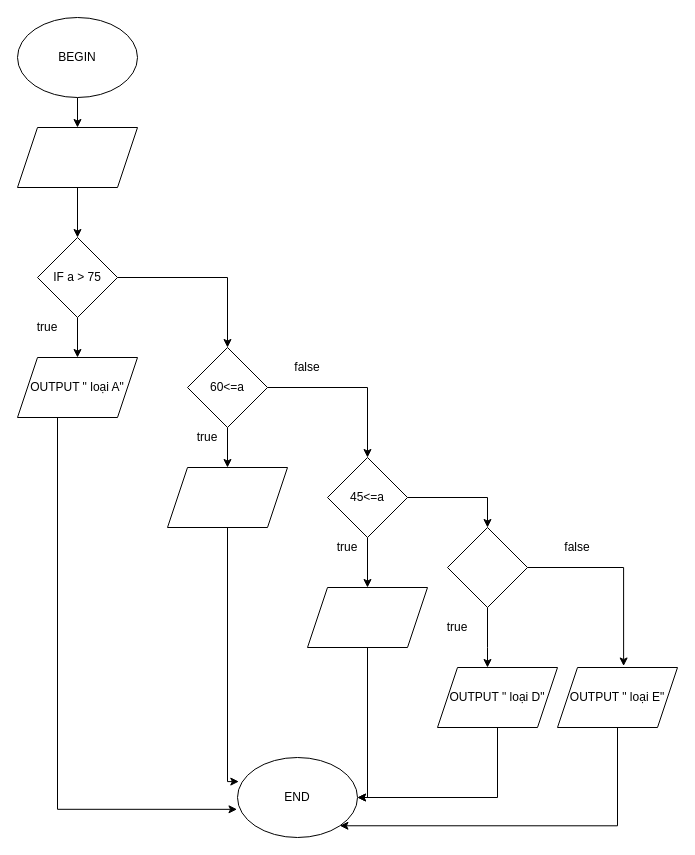
The diagram is 695 pixels wide and 855 high, and some of its shapes have lost their labels. The shapes that lost their labels are listed below. From the top down, each one's centre as x and y in pixels, then its label:
the point at 77,157: INPUT a
the point at 227,497: OUTPUT " loại B"
the point at 487,567: 35<=a
the point at 367,617: OUTPUT " loại C"
